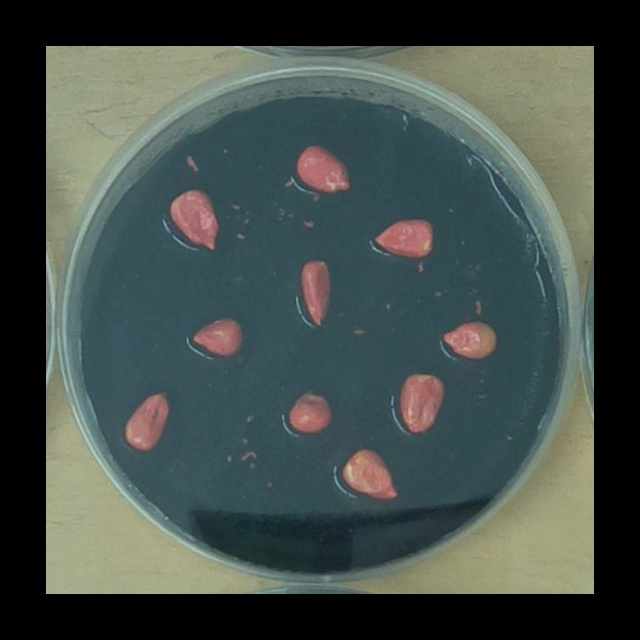Zea mays: (164, 182, 225, 255), (118, 383, 177, 456), (392, 367, 451, 439), (290, 137, 357, 200), (337, 443, 403, 505), (367, 211, 439, 263), (295, 252, 338, 331), (185, 310, 248, 361), (436, 315, 501, 364), (284, 384, 339, 438)
